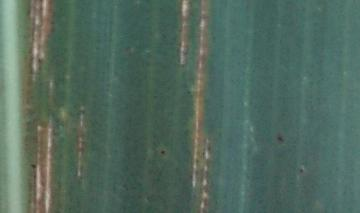tarspot: (275, 134, 287, 144), (159, 148, 167, 158), (298, 165, 306, 175), (29, 161, 37, 170)
